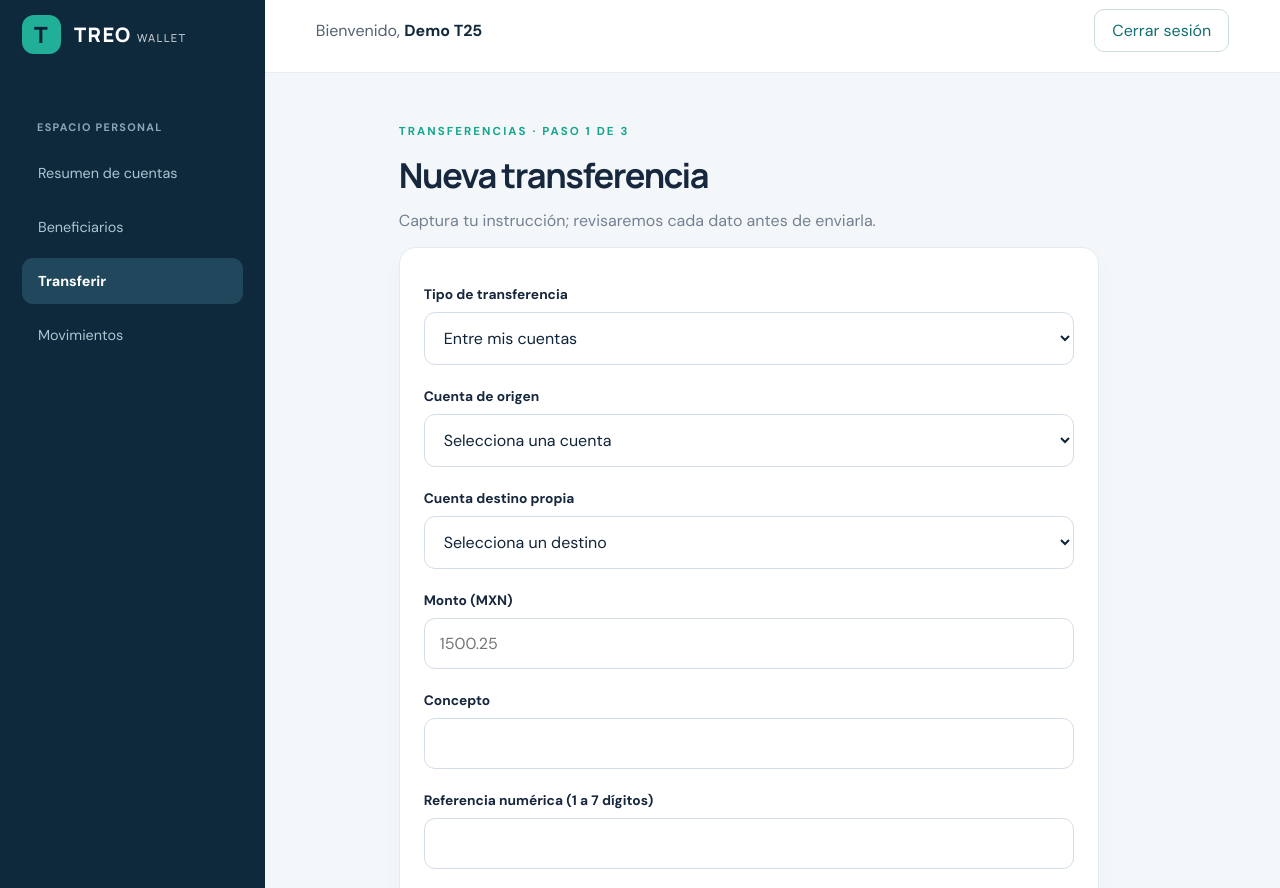
it: T-25 recorrido integrado y accesibilidad web › muestra revisión explícita con monto exacto y no envía dinero antes de confirmar
Step 1. Select "CLABE **************0012 · $9,000.00" in the dropdown labelled "Cuenta de origen" → x=749, y=440, box x1=424 y1=414 x2=1074 y2=467
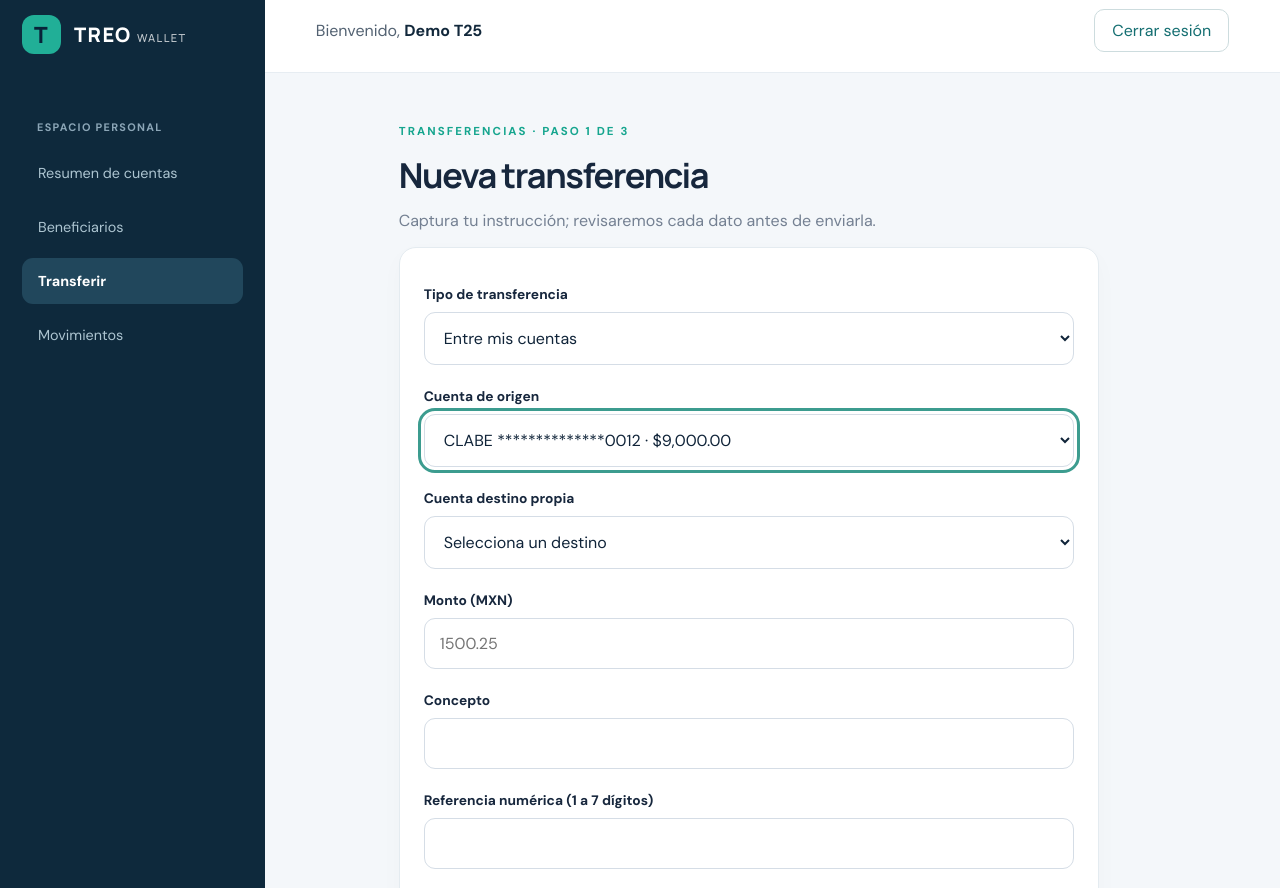
Step 2. Select "CLABE **************0025" in the dropdown labelled "Cuenta destino propia" → x=749, y=542, box x1=424 y1=516 x2=1074 y2=569
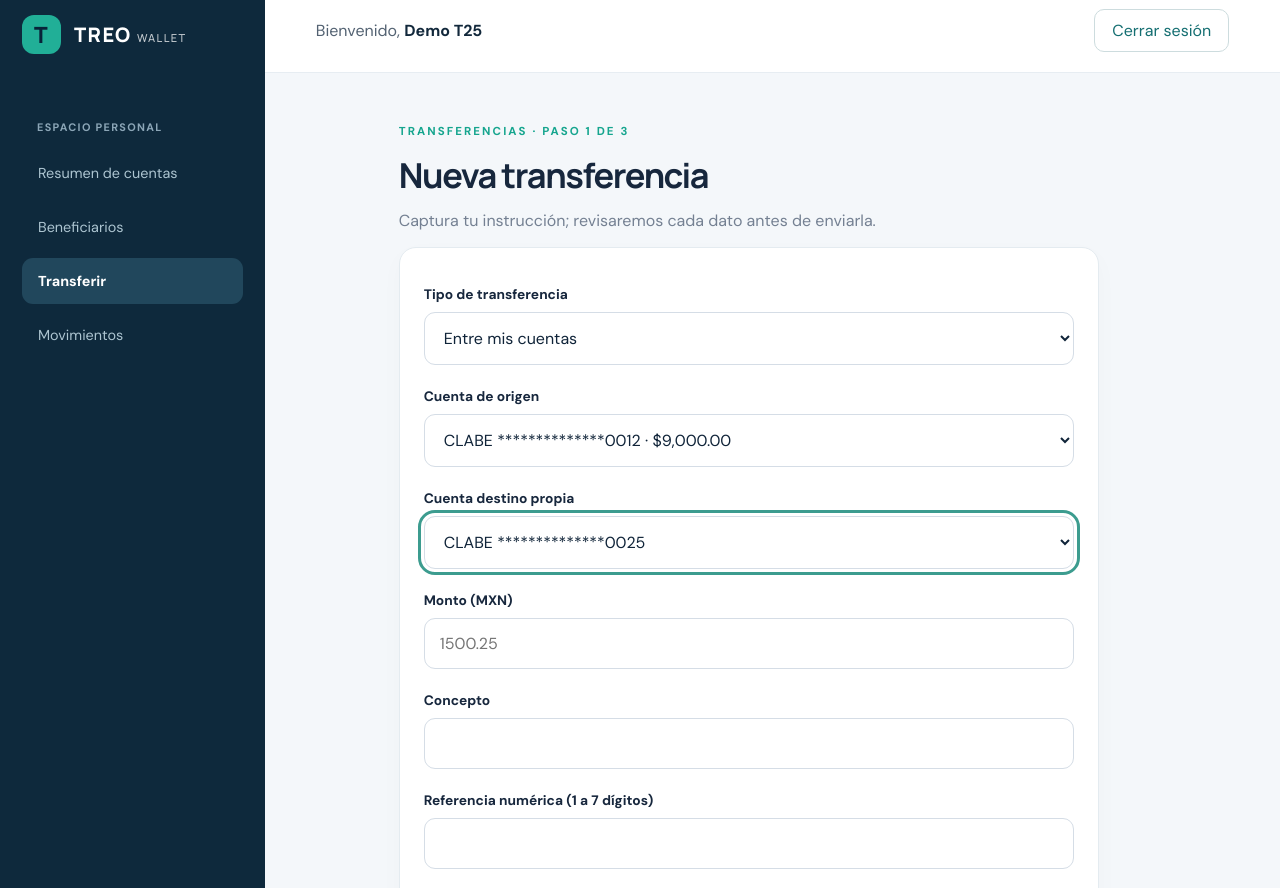
Step 3. Type "1.25" into the field labelled "Monto (MXN)" → x=749, y=643, box x1=424 y1=618 x2=1074 y2=669
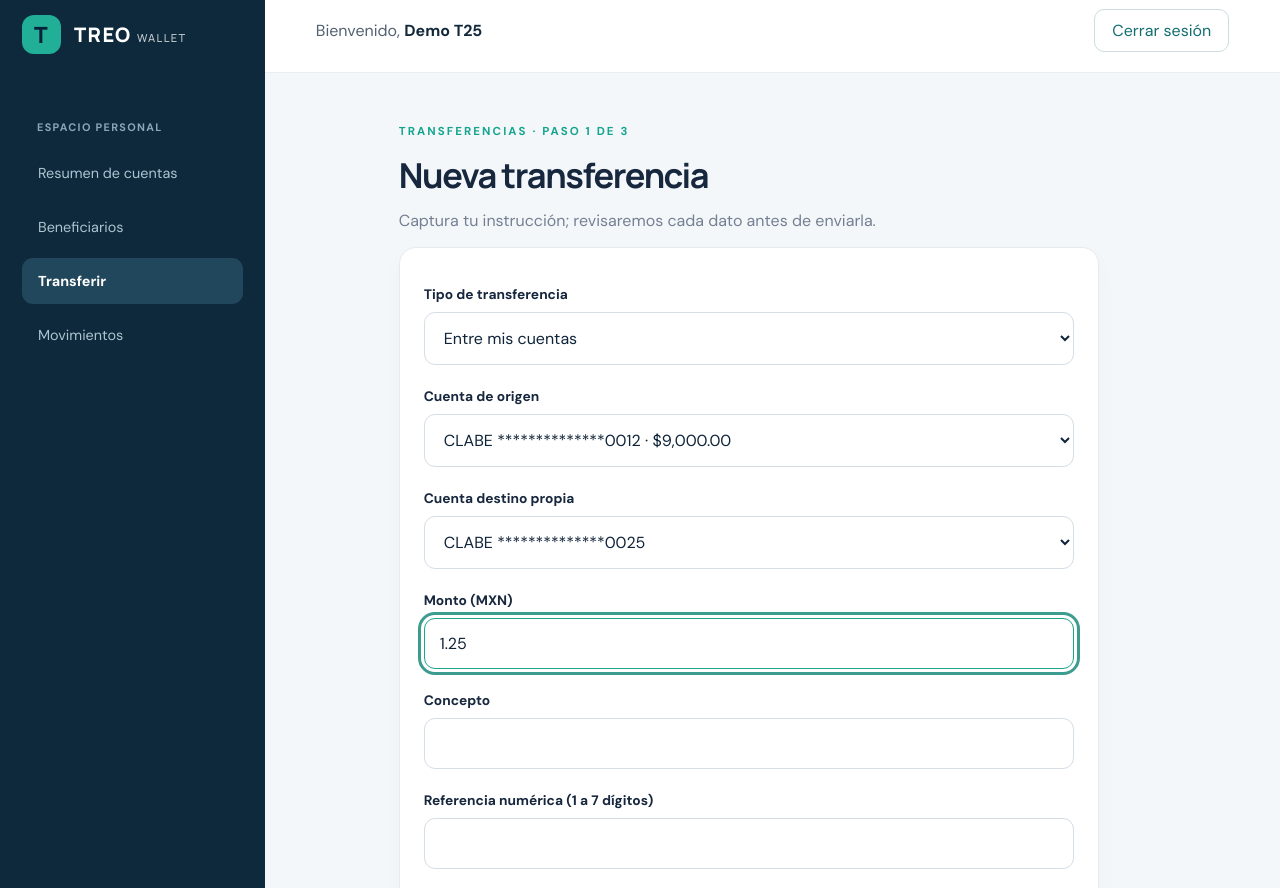
Step 4. Type "T25 integración" into the field labelled "Concepto" → x=749, y=743, box x1=424 y1=718 x2=1074 y2=769
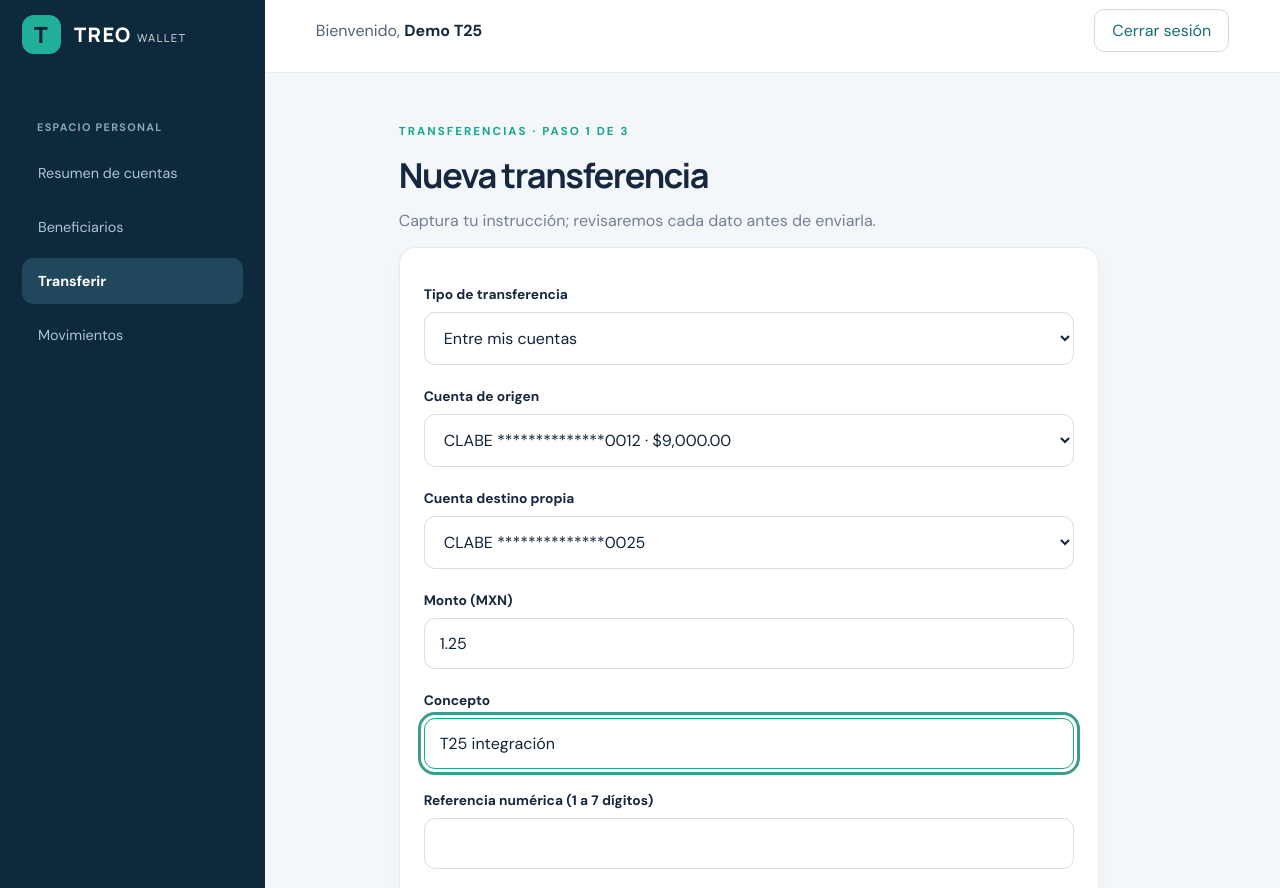
Step 5. Type "0025" into the field labelled "Referencia numérica (1 a 7 dígitos)" → x=749, y=843, box x1=424 y1=818 x2=1074 y2=869
(page scrolled)
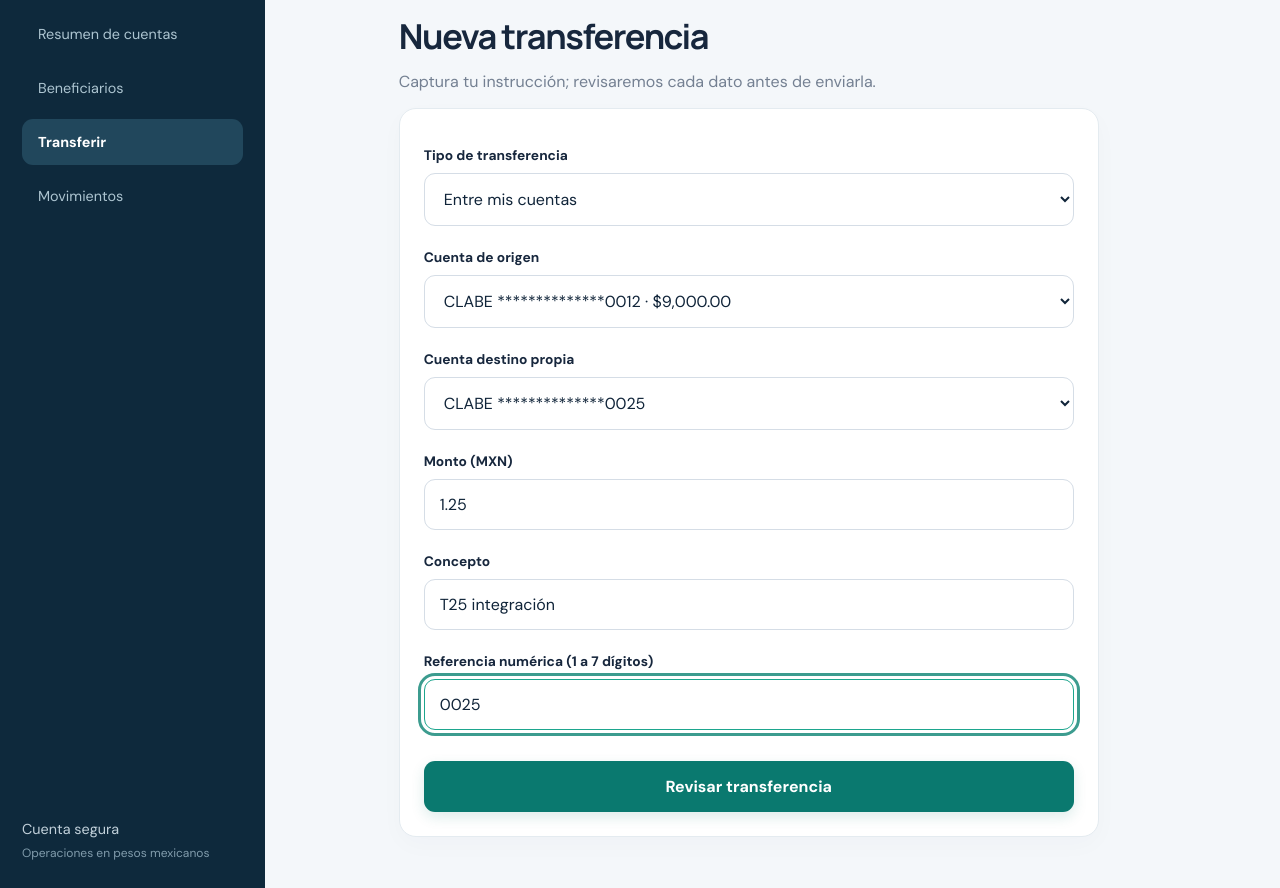
Step 6. Click the button "Revisar transferencia" → x=749, y=786, box x1=424 y1=761 x2=1074 y2=812
(page scrolled)
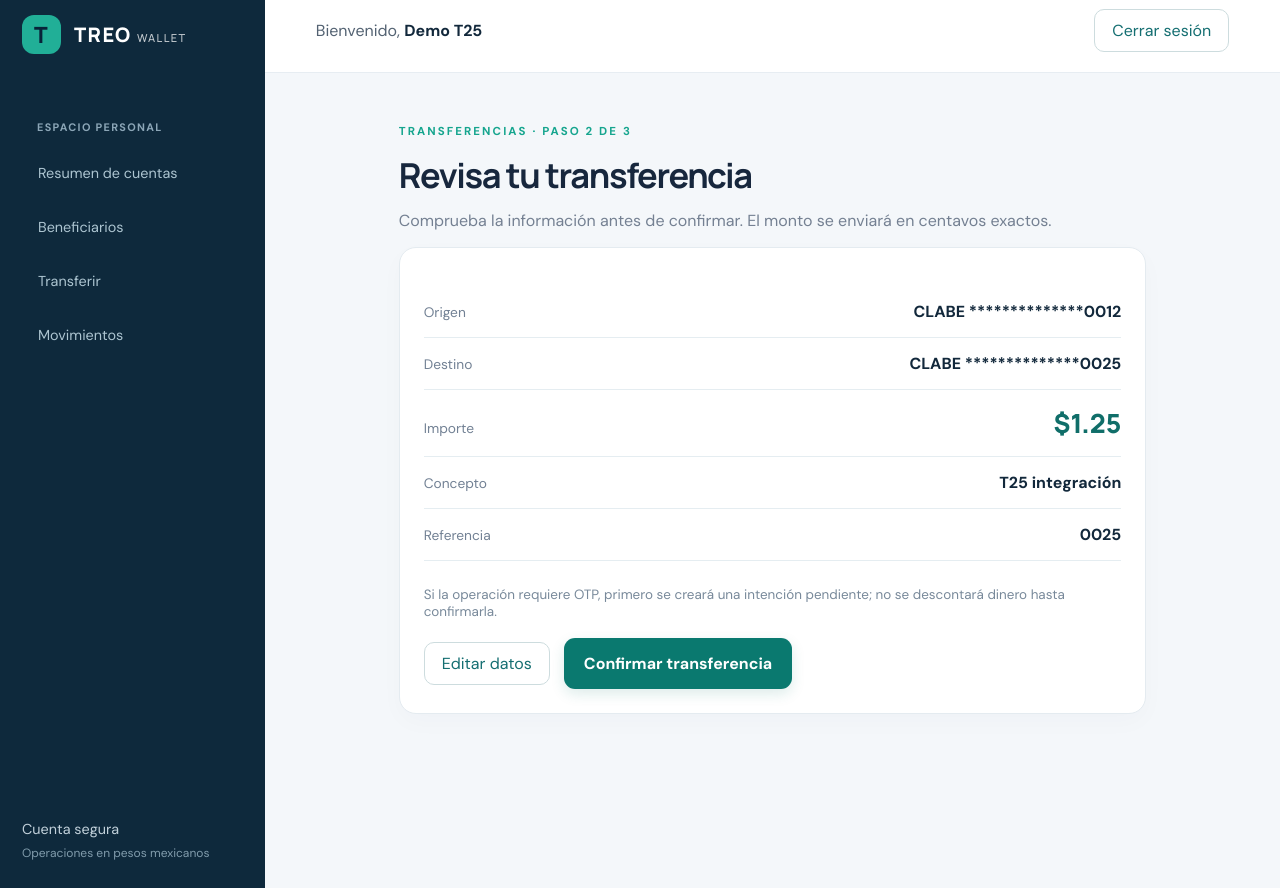
Check: the heading "Revisa tu transferencia" is shown, box x1=399 y1=151 x2=752 y2=198
Check: the text "T25 integración" is shown, box x1=999 y1=472 x2=1121 y2=493
Check: the text "0025" is shown, box x1=1080 y1=524 x2=1121 y2=545
